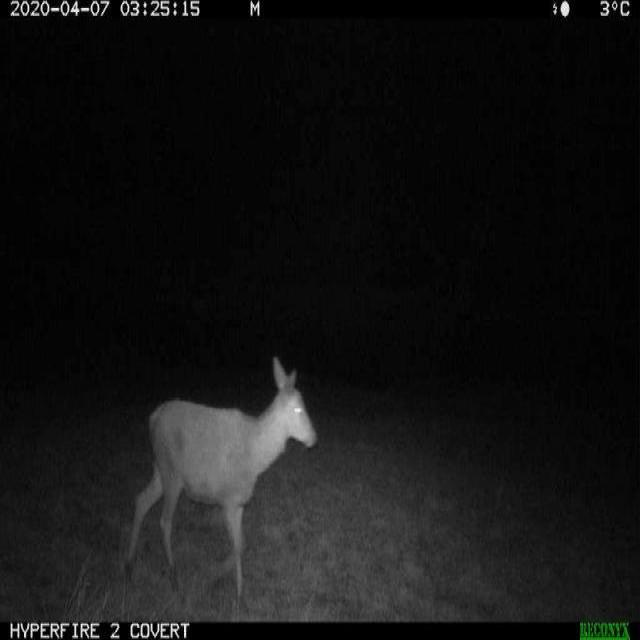deer: (104, 321, 333, 606)
